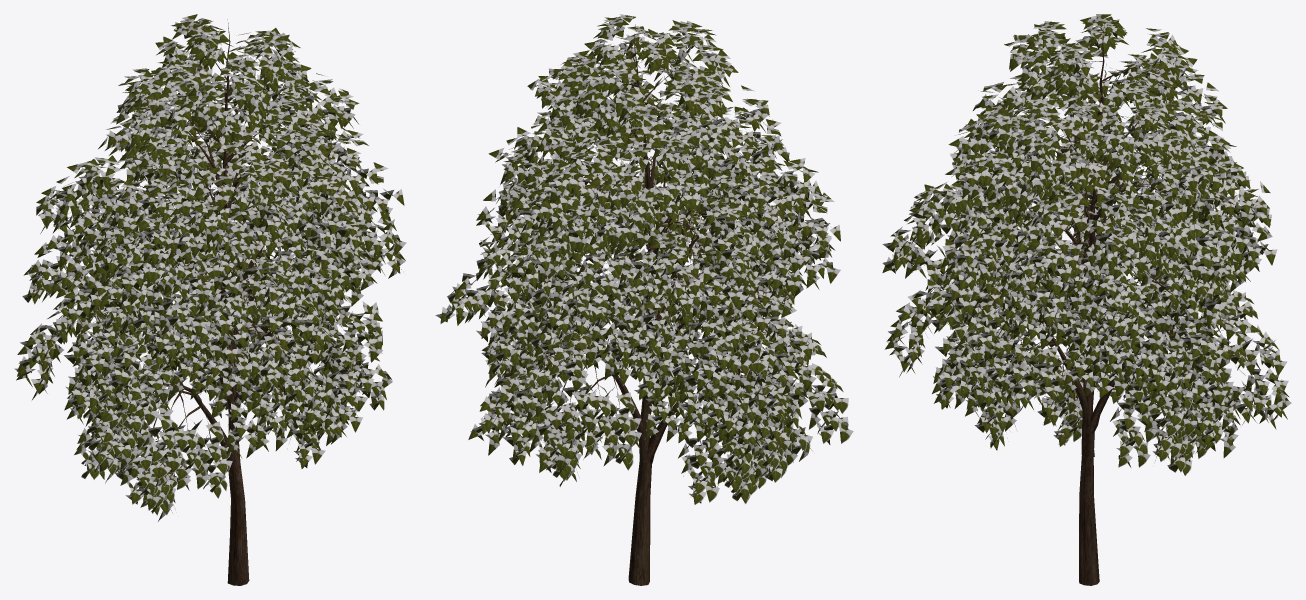
File: street_tree_c.glb
3 views of the same model, side by side, from view 1: azimuth 30°, elevation 25°; view 2: azimuth 150°, elevation 25°; view 3: azimuth 270°, elevation 25° (orthographic).
Bounding box in the file's own units: 6.4 × 10 × 6.6.
2 materials, 2 textured.
